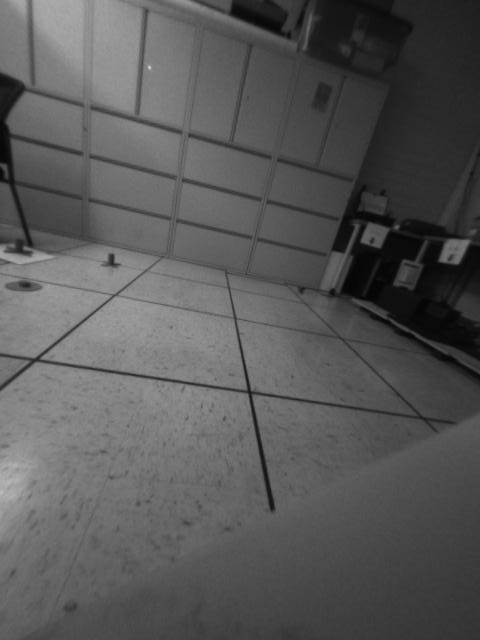X: (3, 234, 35, 258), (100, 251, 121, 269)
